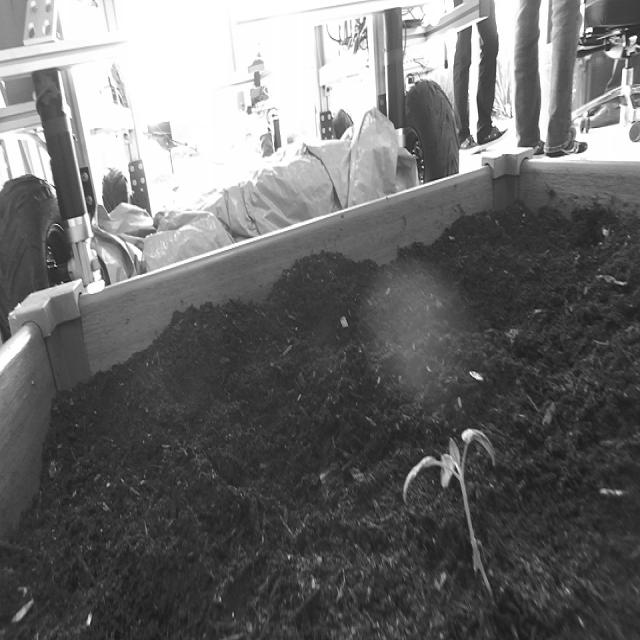Healthy: (400, 422, 505, 606)
